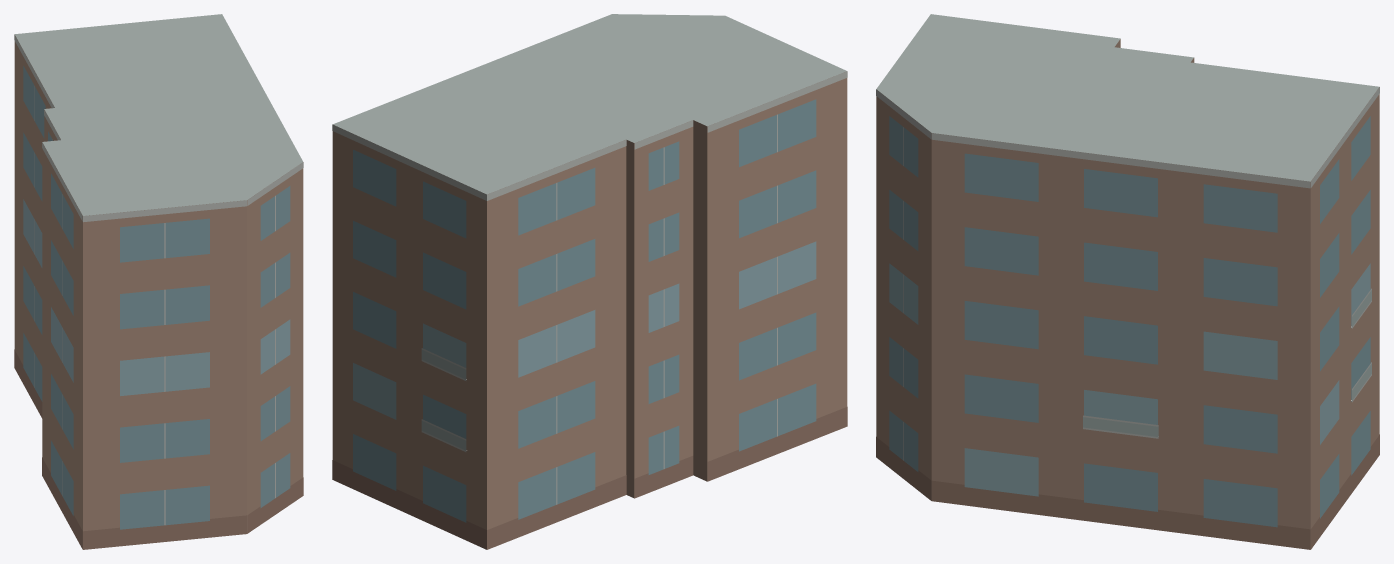
The model's file is survey-upis-32878551.glb.
3 renders of one model, left to right at view 1: azimuth 30°, elevation 25°; view 2: azimuth 150°, elevation 25°; view 3: azimuth 270°, elevation 25°, orthographic. The views are drawn at different scales.
Parts seen in each view (by area): view 1: survey-upis-32878551.tmp; view 2: survey-upis-32878551.tmp; view 3: survey-upis-32878551.tmp.
Boxes of the visible parts, box(x1,y1,x2,y2) form: survey-upis-32878551.tmp: box(14, 14, 303, 549); survey-upis-32878551.tmp: box(332, 14, 847, 549); survey-upis-32878551.tmp: box(876, 14, 1379, 549).
Bounding box in the file's own units: 12.9 × 13.2 × 16.37.
